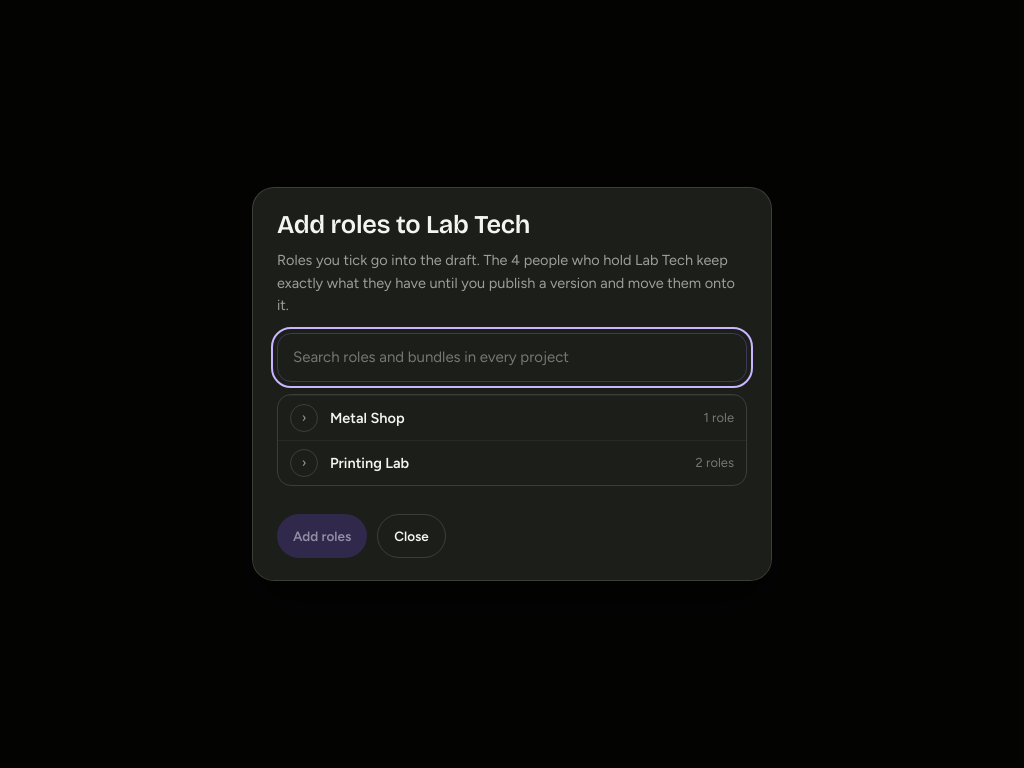
Test: AddRolesToBundle › keeps each project folded until the operator opens it
Click the button "› Printing Lab 2 roles": click(370, 463) [278,441,746,485]
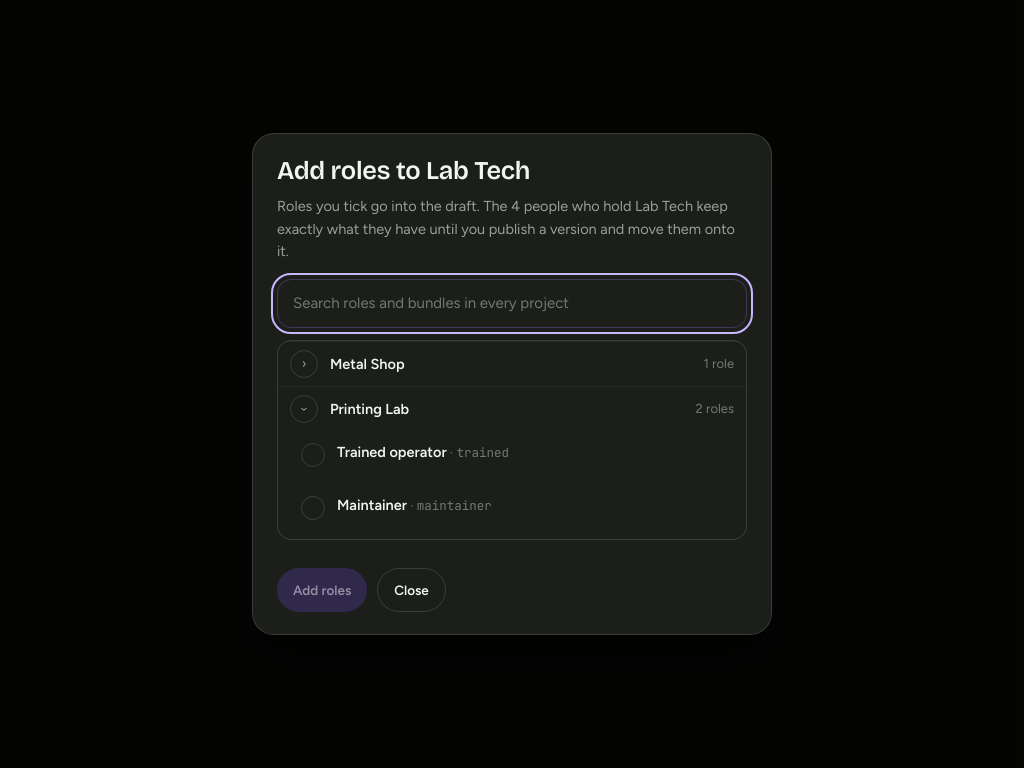
Check: the button "› Printing Lab 2 roles" is expanded, box [278,387,746,431]
